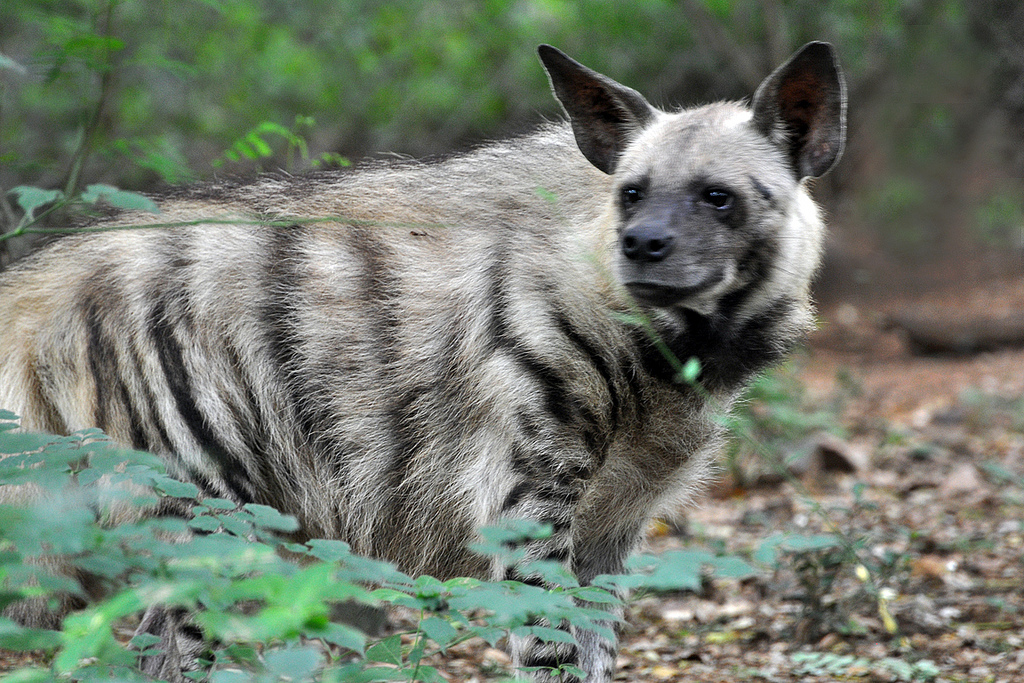hyena: (1, 41, 847, 585)
